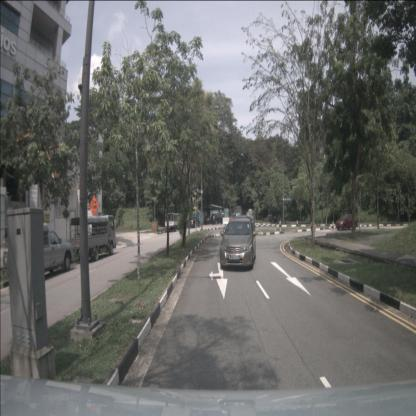vehicle-car: (219, 218, 256, 270), (336, 213, 358, 230), (211, 213, 226, 225), (187, 216, 201, 228), (204, 216, 214, 224)
vehicle-truck: (3, 222, 74, 279), (70, 214, 117, 262), (165, 212, 181, 232)
